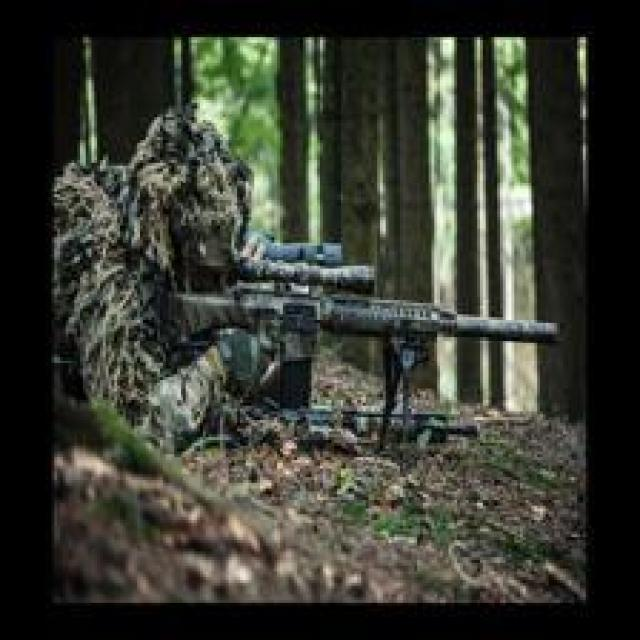Rifle: (194, 222, 577, 418)
